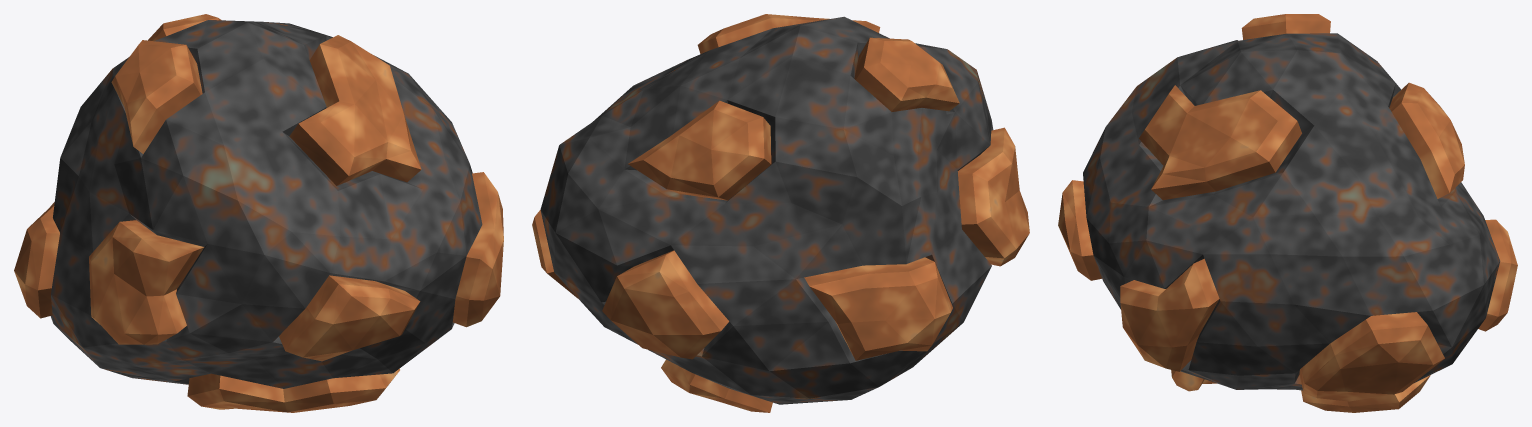
The model's file is Copper_Ore.fbx.
3 renders of one model, left to right at view 1: azimuth 30°, elevation 25°; view 2: azimuth 150°, elevation 25°; view 3: azimuth 270°, elevation 25°, orthographic. The views are drawn at different scales.
Parts seen in each view (by area): view 1: SM_Copper_Ore; view 2: SM_Copper_Ore; view 3: SM_Copper_Ore.
Part boxes in pixels (x1,y1,x2,y2): SM_Copper_Ore: (14, 14, 503, 412); SM_Copper_Ore: (532, 14, 1029, 412); SM_Copper_Ore: (1058, 14, 1517, 412).
Bounding box in the file's own units: 41.93 × 36.74 × 44.4.
Materials: 2 (2 with a texture image).
